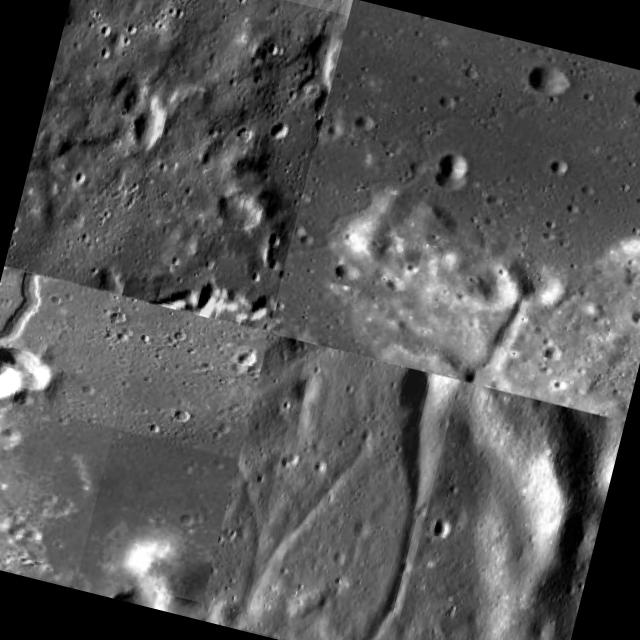rille: (3, 0, 346, 330), (272, 47, 544, 374), (237, 342, 459, 640), (0, 266, 145, 587), (456, 285, 529, 390)
